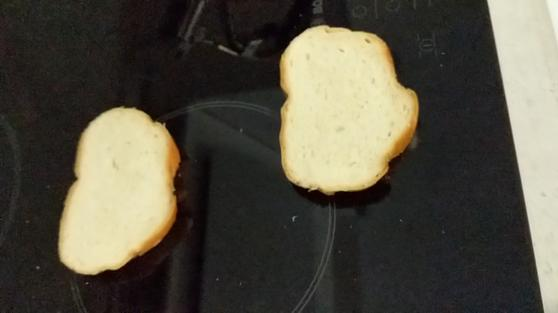white_bread: (277, 23, 421, 192), (57, 108, 181, 277)
